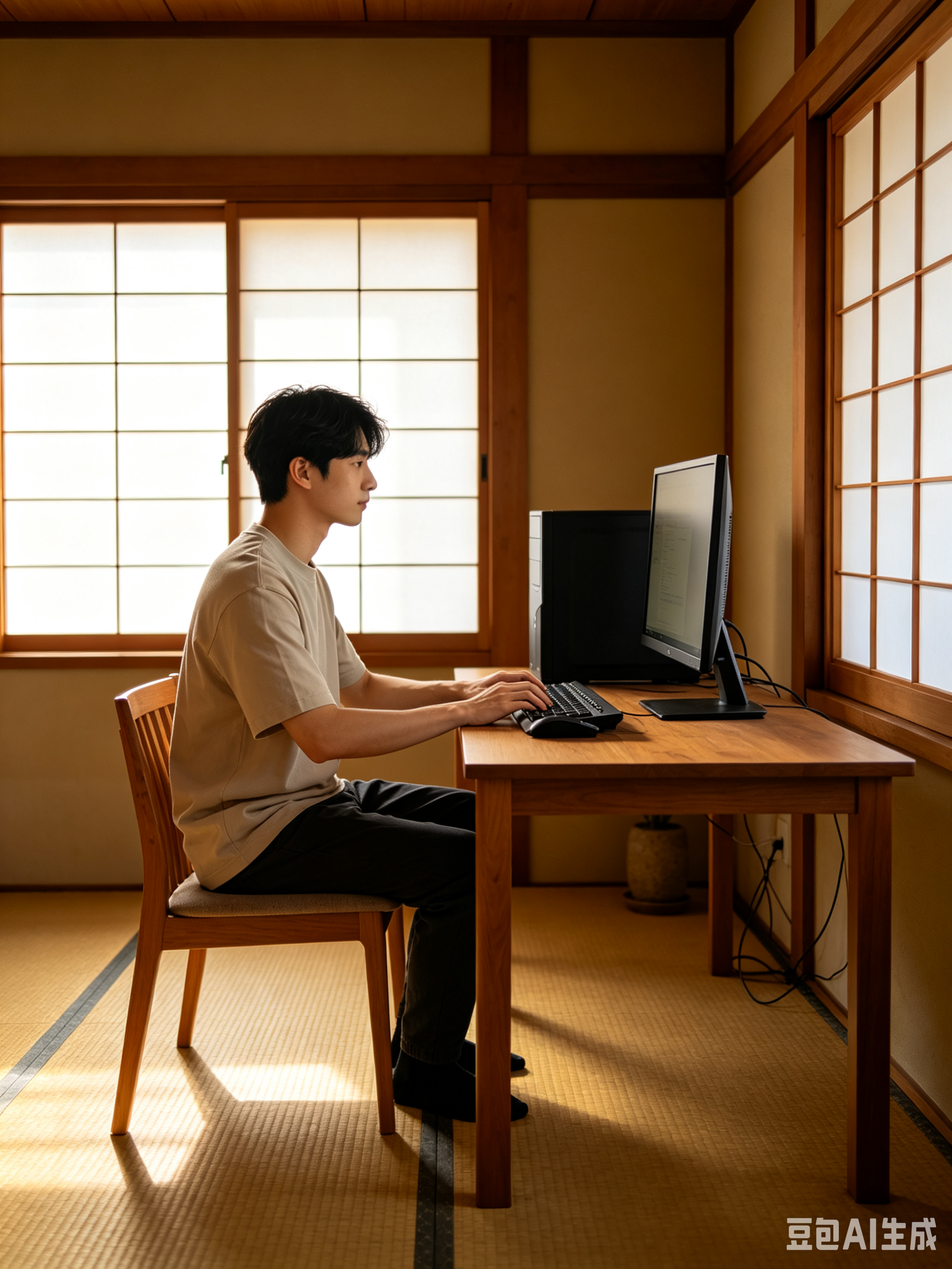sitting_good: (172, 396, 556, 1097)
